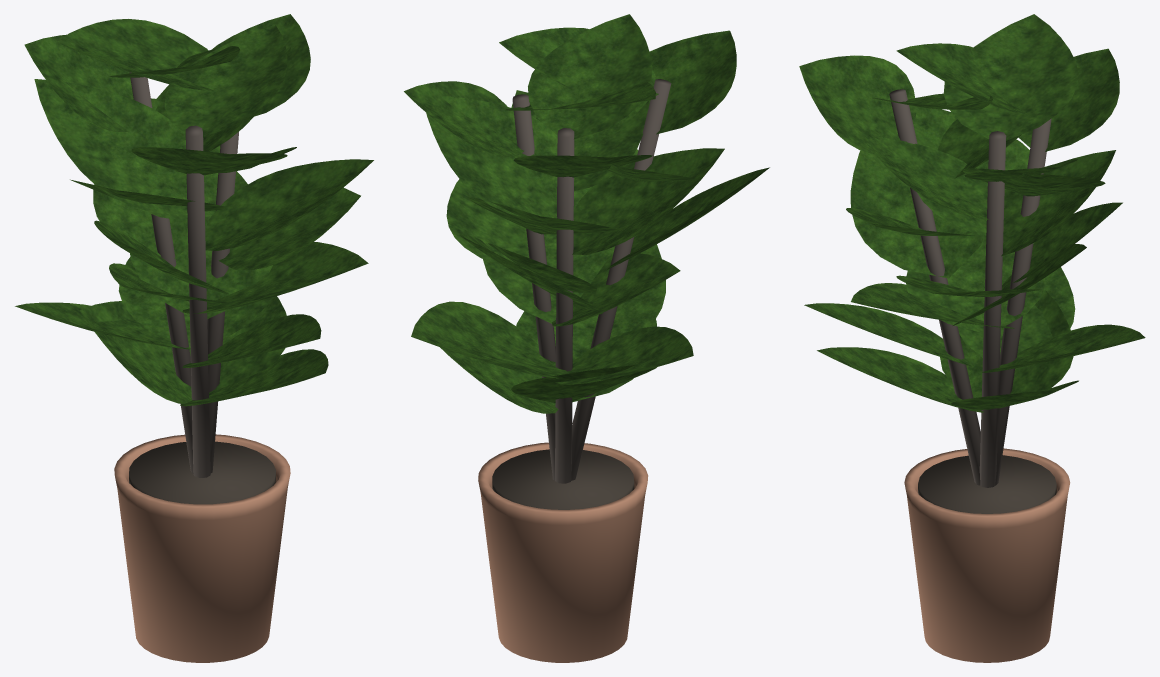
The model's file is master_plant.glb.
The picture shows the model from 3 angles, left to right: view 1: azimuth 30°, elevation 25°; view 2: azimuth 150°, elevation 25°; view 3: azimuth 270°, elevation 25°; orthographic projection. The views are drawn at different scales.
Visible parts, largest first — view 1: master_plant; view 2: master_plant; view 3: master_plant.
Boxes of the visible parts, x1,y1,x2,y2 form: master_plant: [15, 14, 373, 662]; master_plant: [404, 14, 769, 662]; master_plant: [799, 14, 1145, 662].
Bounding box in the file's own units: 0.6338 × 1.28 × 0.6948.
4 materials, 1 textured.
